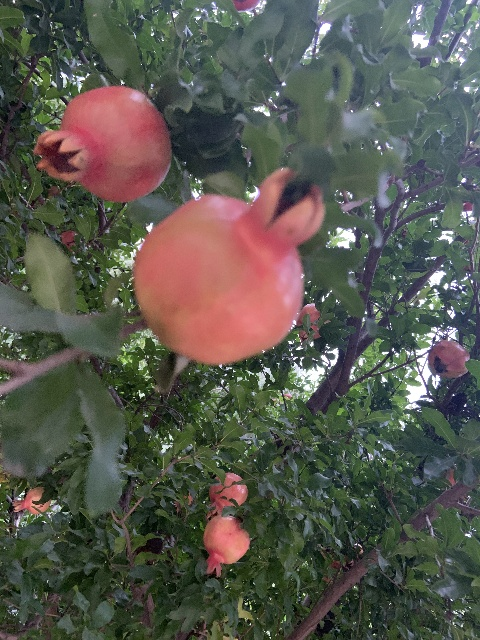ripe: (132, 167, 322, 365), (33, 85, 172, 202), (203, 516, 250, 576), (428, 340, 470, 378), (209, 473, 247, 515), (296, 303, 324, 342), (12, 487, 50, 514)
